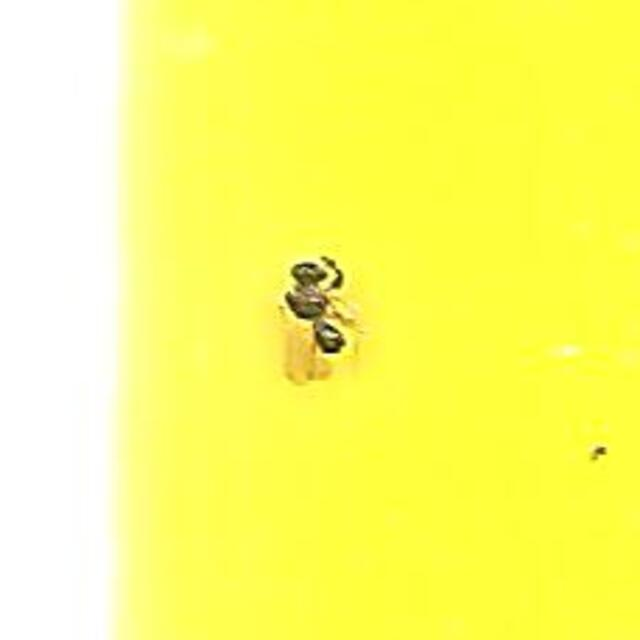Hymenoptera: (279, 247, 361, 393)
